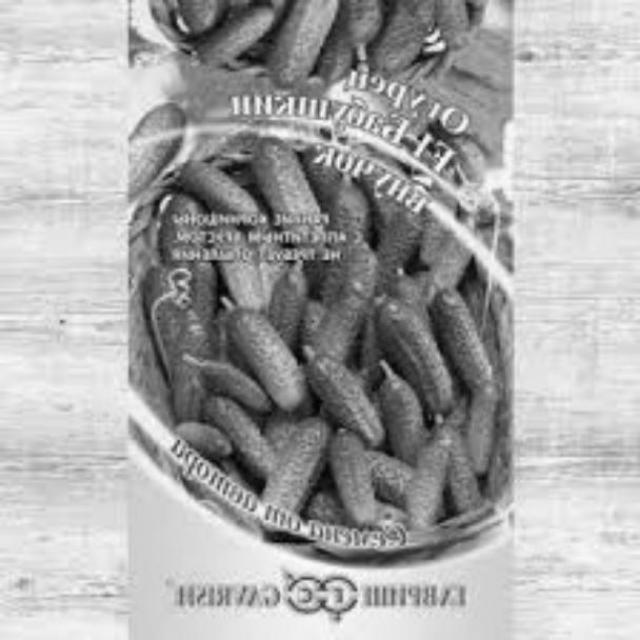dua chuot: (117, 162, 498, 531), (138, 0, 498, 139)
